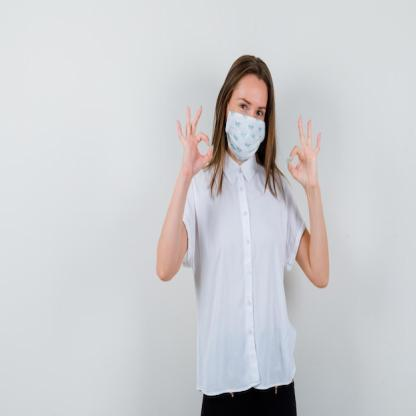ok: (174, 100, 215, 184), (283, 112, 325, 188)
